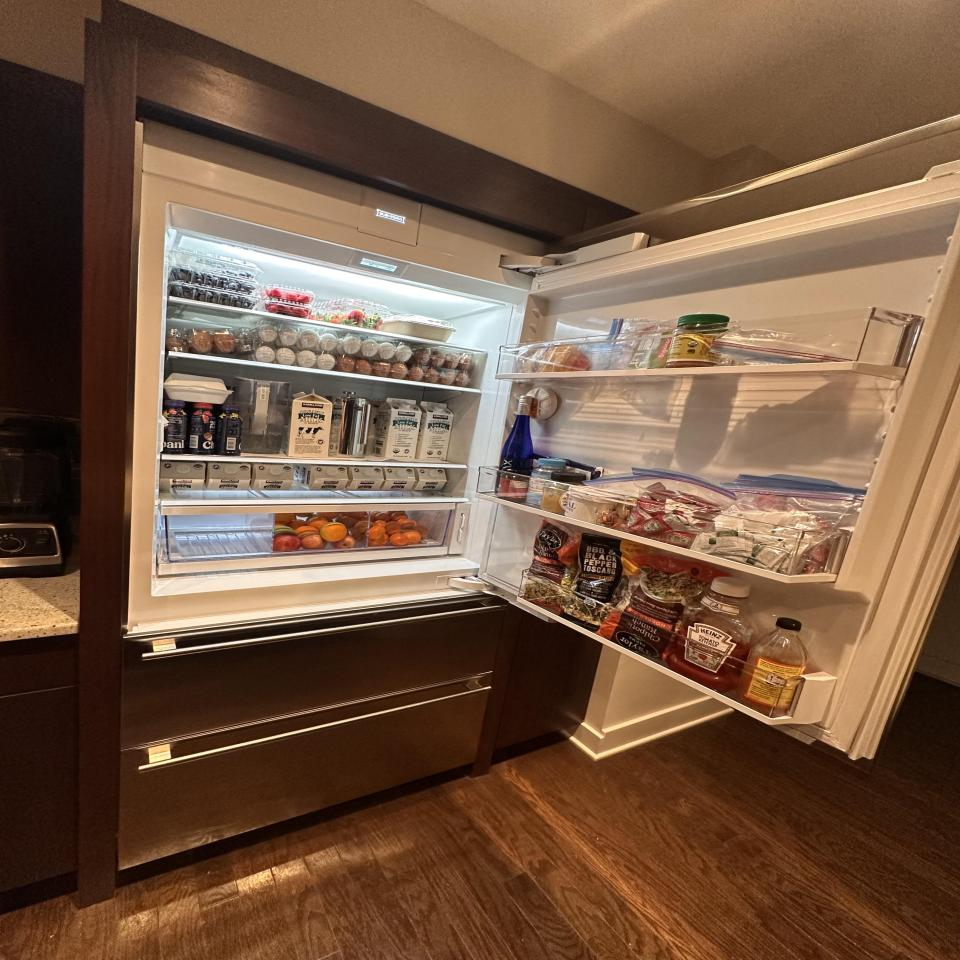Huevos: (258, 320, 339, 352), (168, 326, 256, 354), (254, 344, 337, 370), (343, 331, 412, 362), (414, 345, 476, 371), (339, 356, 407, 378), (410, 364, 470, 387)
Leche: (286, 390, 332, 458), (377, 397, 421, 459), (418, 400, 454, 461), (294, 464, 350, 490), (159, 461, 206, 490), (206, 461, 252, 490), (251, 462, 294, 490), (347, 466, 385, 491), (382, 466, 418, 492), (412, 467, 449, 490)
Manzana: (272, 532, 300, 552), (300, 533, 327, 549), (331, 536, 356, 549)
